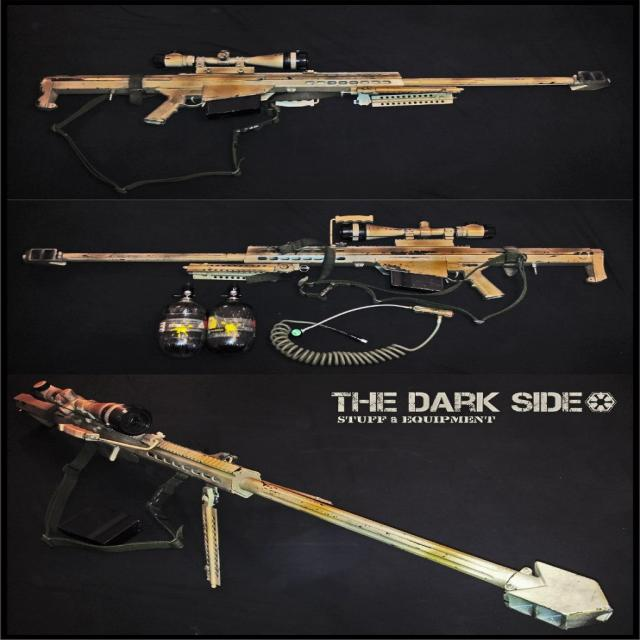grenade: (205, 287, 258, 355), (155, 283, 201, 361)
